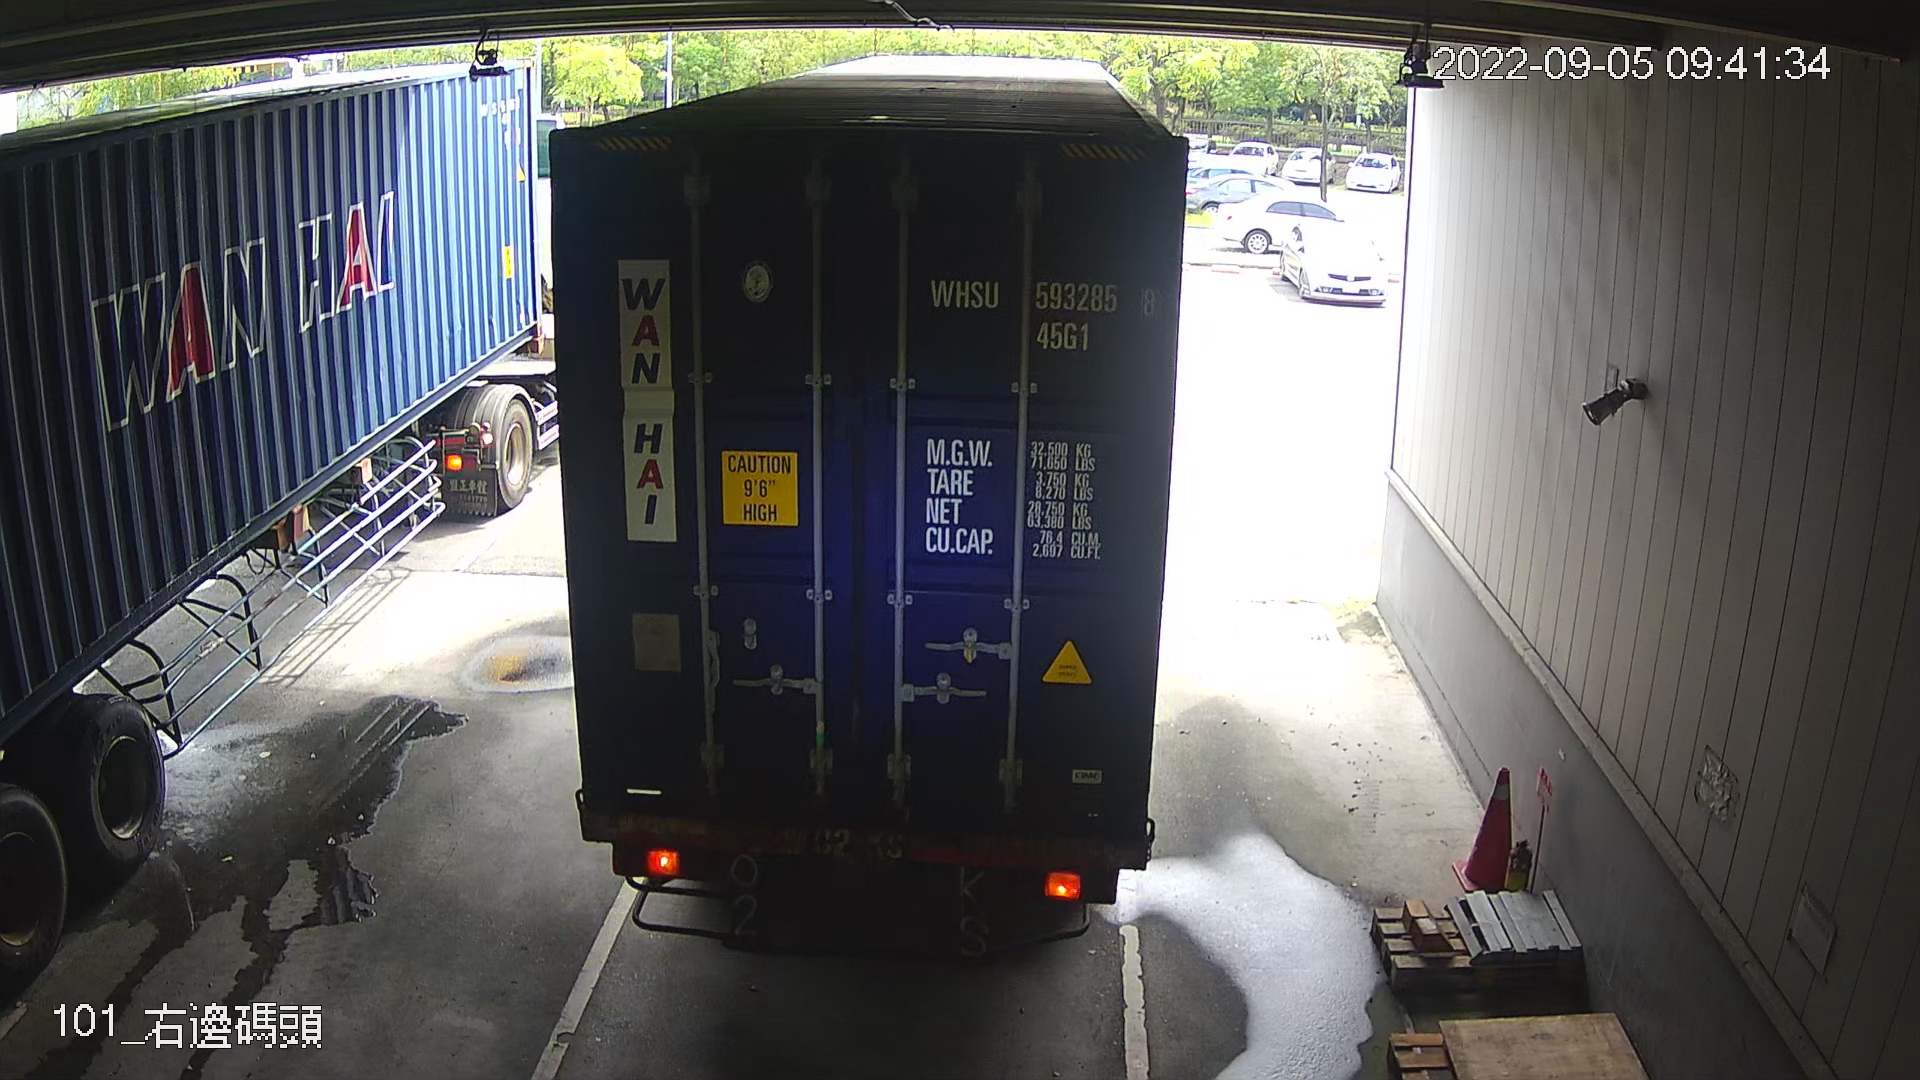container: (923, 266, 1166, 364)
